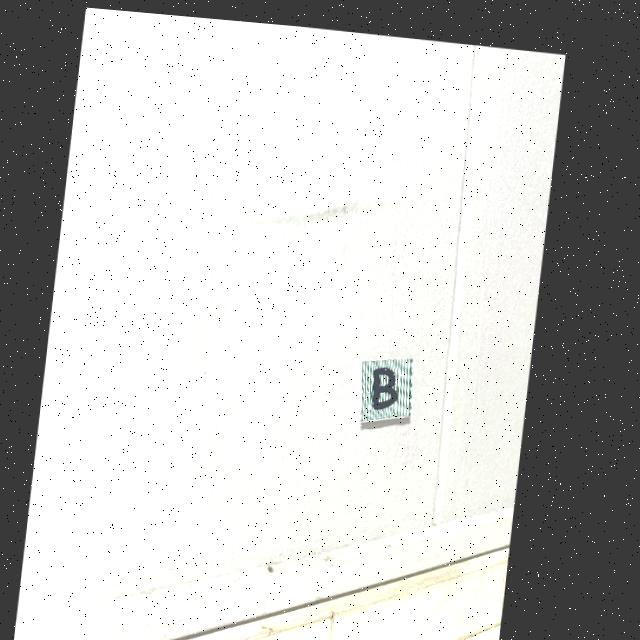B: (380, 360, 404, 403)
